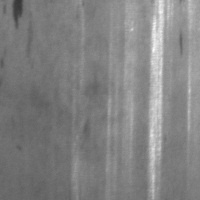inclusion: (9, 0, 27, 31)
scratches: (109, 7, 140, 169), (147, 0, 165, 198)
